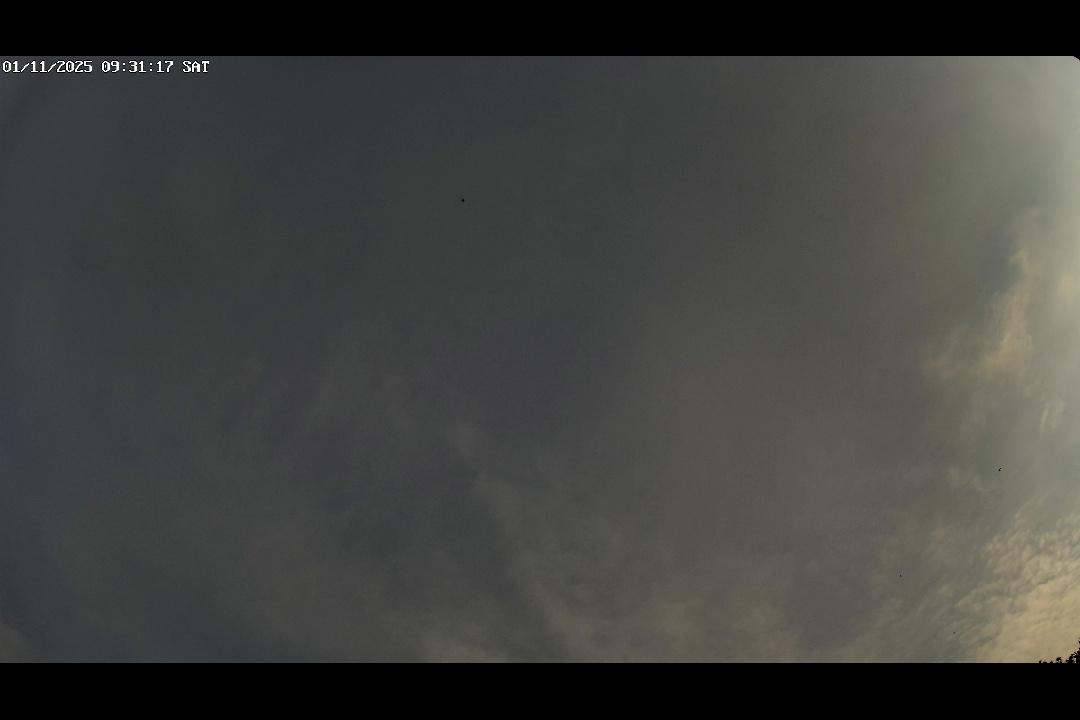WildLife: (450, 193, 474, 206), (994, 465, 1005, 474), (895, 572, 906, 579), (949, 630, 960, 636)
